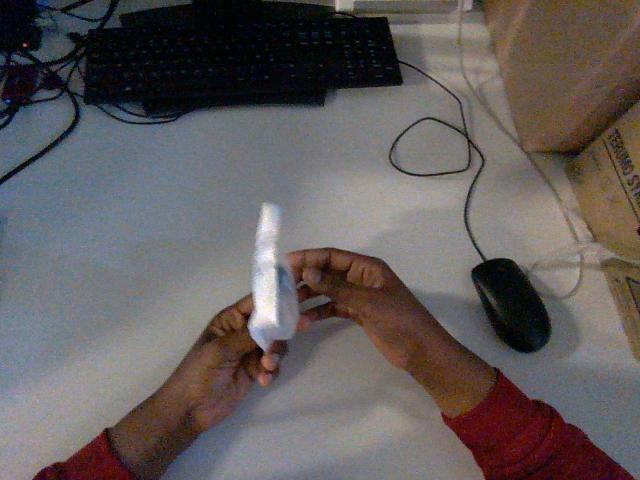syringe: (248, 203, 298, 350)
